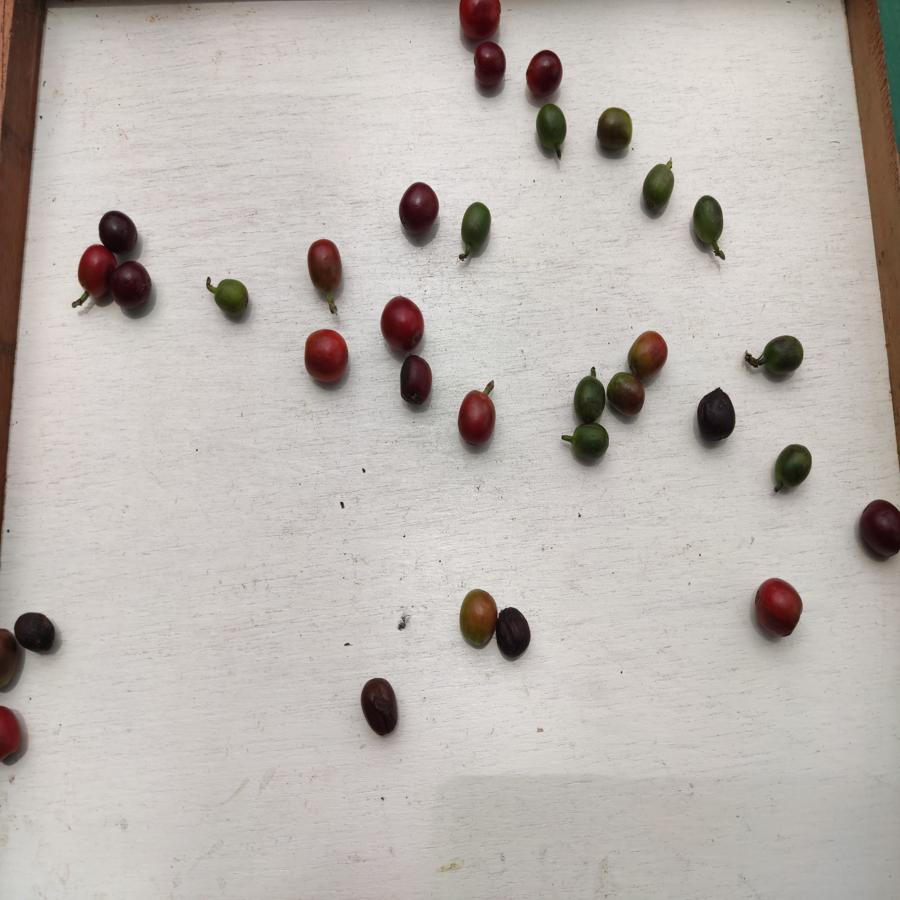Inmaduro: (771, 441, 813, 490), (688, 193, 726, 246), (763, 332, 805, 378), (567, 420, 611, 462), (534, 102, 568, 156), (641, 164, 675, 213), (460, 202, 492, 253), (213, 277, 250, 320), (574, 374, 603, 423)
Maduro: (752, 577, 804, 638), (378, 294, 425, 350), (304, 328, 350, 380), (457, 389, 496, 446), (77, 244, 108, 301), (1, 703, 26, 767), (459, 1, 502, 38)
Pinton: (454, 588, 497, 650), (307, 237, 347, 296), (628, 328, 671, 376), (609, 369, 648, 419), (595, 107, 635, 154)
Sobremaduro: (858, 498, 900, 558), (359, 676, 399, 736), (110, 260, 156, 311), (14, 610, 63, 653), (399, 182, 440, 233), (399, 353, 436, 408), (697, 389, 736, 441), (98, 208, 138, 257), (525, 50, 564, 98), (496, 606, 531, 659), (473, 39, 507, 90)
